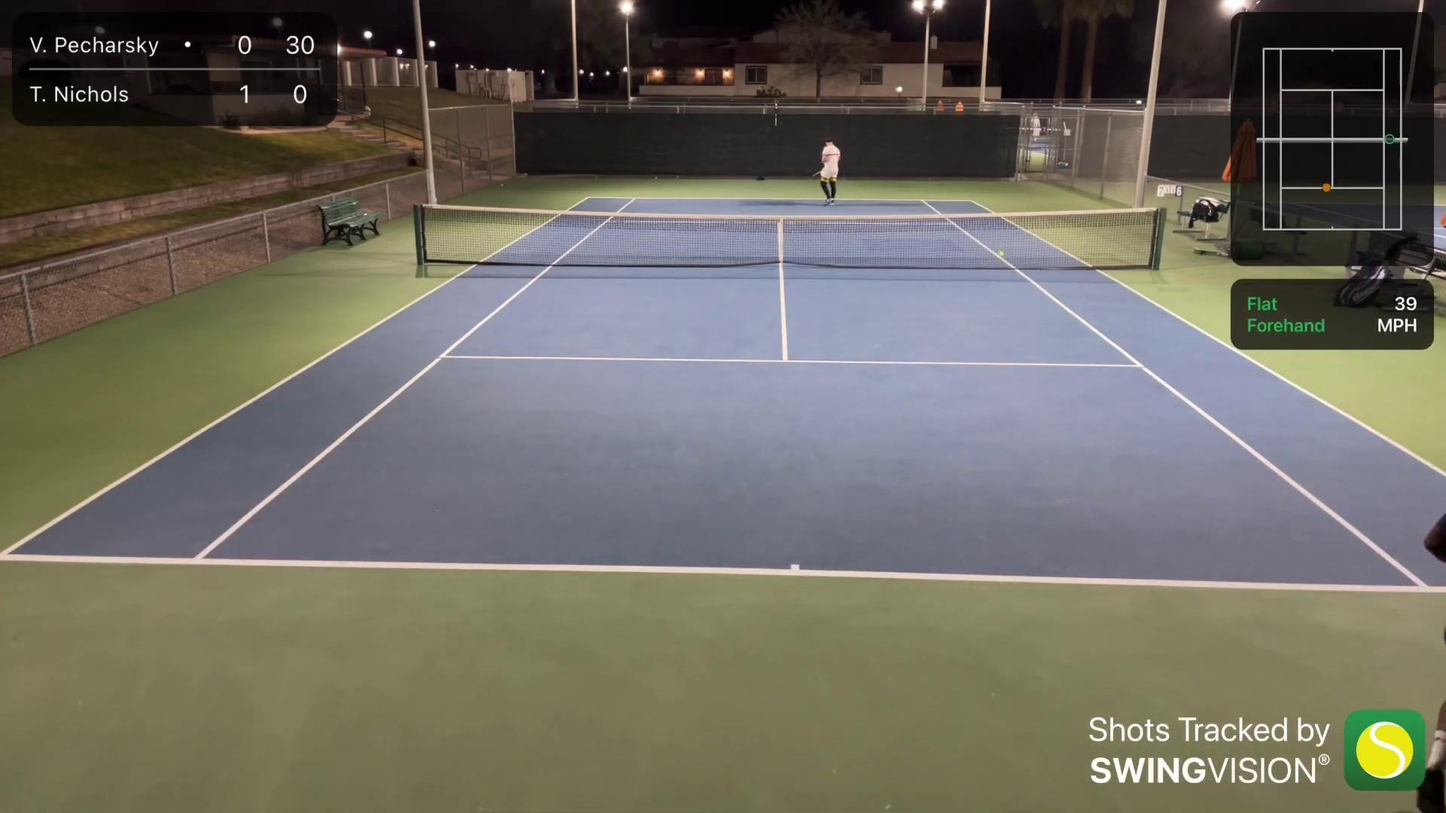ball: (999, 251, 1005, 258)
